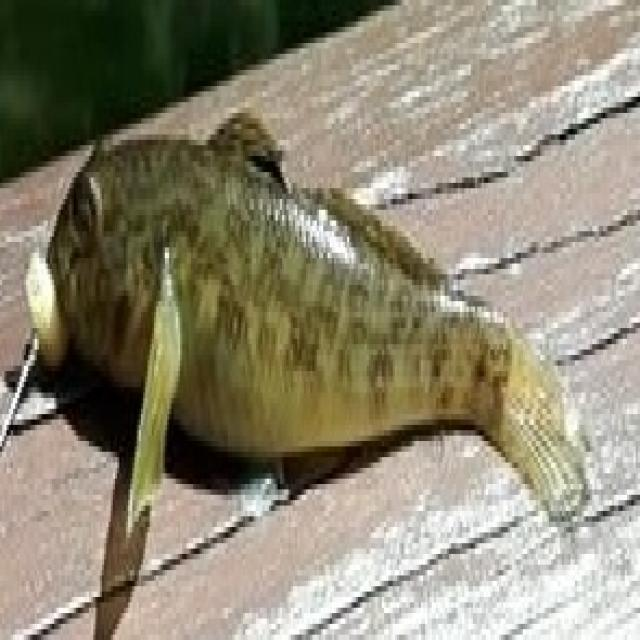Goby: (46, 67, 612, 576)
